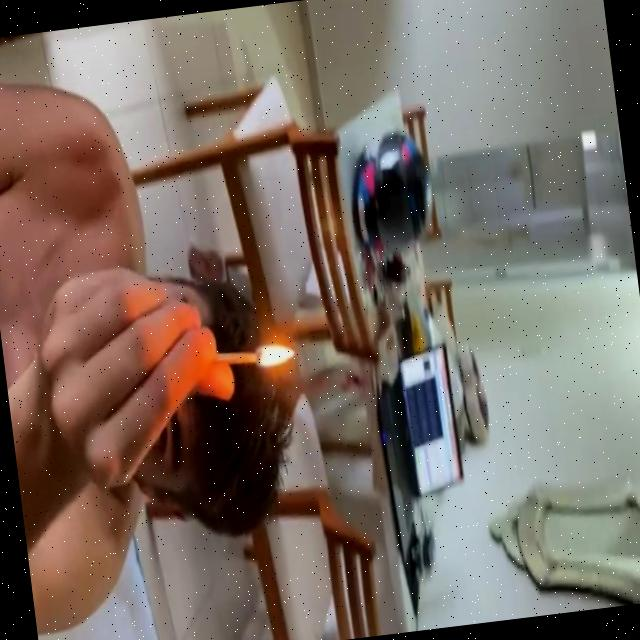fire: (252, 341, 296, 370)
